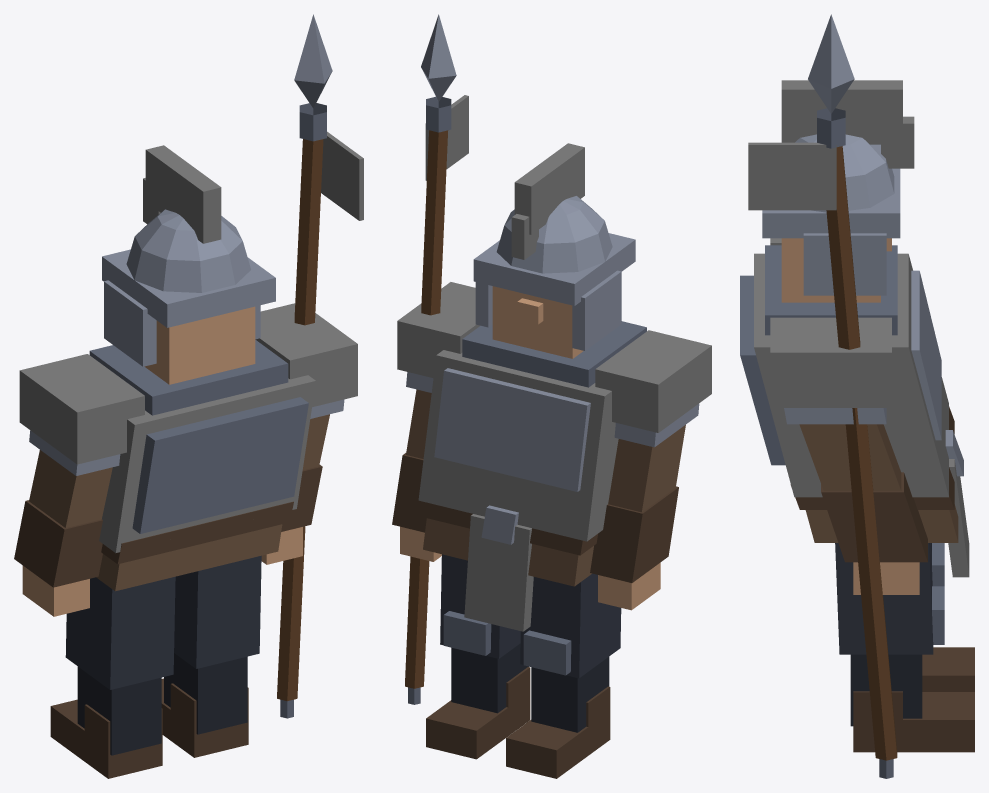
File: infantry-attack-3.obj
The picture shows the model from 3 angles, left to right: view 1: azimuth 30°, elevation 25°; view 2: azimuth 150°, elevation 25°; view 3: azimuth 270°, elevation 25°; orthographic projection. The views are drawn at different scales.
Visible parts, largest first — view 1: infantry-attack-3; view 2: infantry-attack-3; view 3: infantry-attack-3.
Part boxes in pixels (bbox=[...]): infantry-attack-3: bbox=[14, 14, 363, 778]; infantry-attack-3: bbox=[392, 14, 711, 778]; infantry-attack-3: bbox=[740, 14, 974, 778].
Size of the model in its own units: 1.25 by 3.06 by 0.8498.
